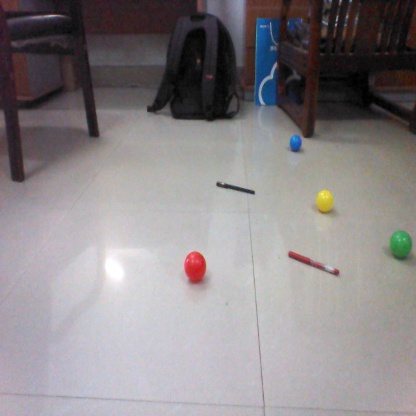ball: (387, 228, 415, 261), (182, 251, 208, 283), (314, 187, 337, 215), (288, 135, 305, 150)
pen: (286, 251, 341, 276), (217, 180, 257, 196)
